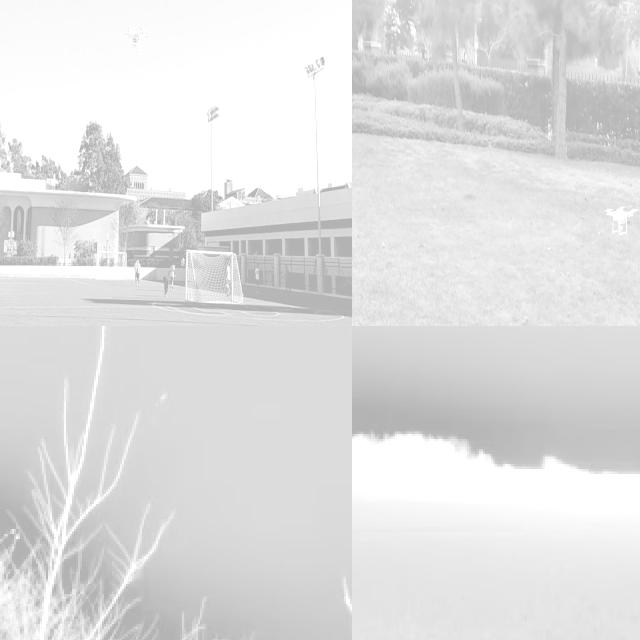0: (154, 384, 176, 412)
1: (537, 326, 579, 335)
drone: (604, 202, 640, 240), (124, 22, 150, 54)
